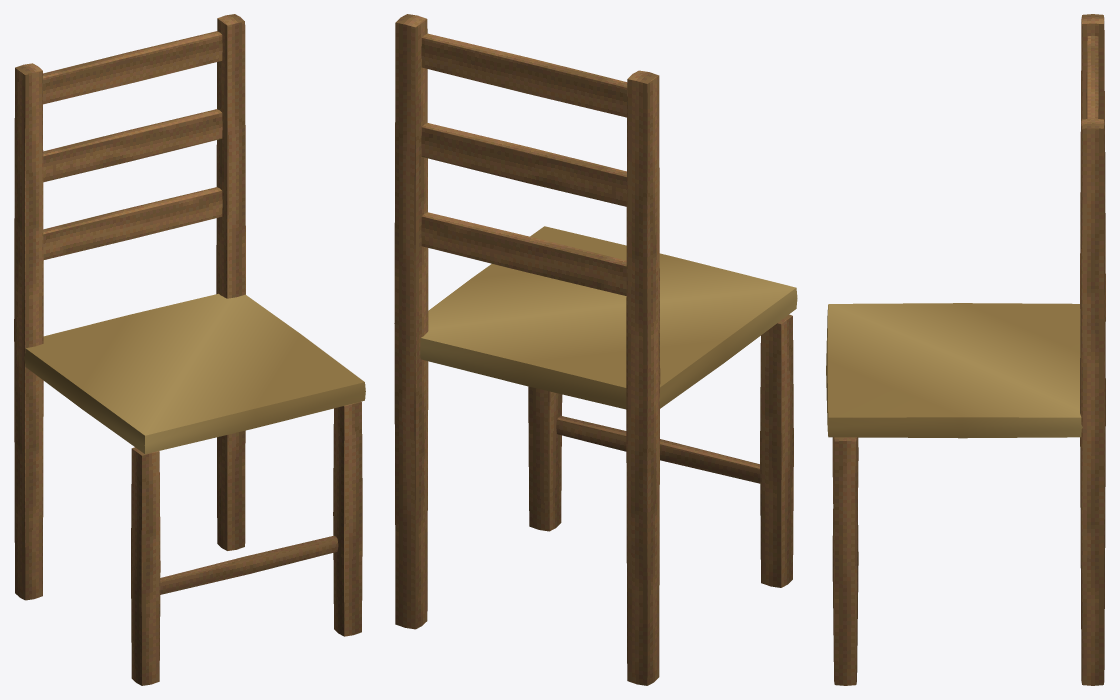
The model's file is dining_chair.glb.
The picture shows the model from 3 angles, left to right: view 1: azimuth 30°, elevation 25°; view 2: azimuth 150°, elevation 25°; view 3: azimuth 270°, elevation 25°; orthographic projection. The views are drawn at different scales.
Visible parts, largest first — view 1: seat, post_back (×2), slat (×3), leg_front (×2), stretcher; view 2: post_back (×2), seat, slat (×3), leg_front (×2), stretcher; view 3: seat, post_back (×2), leg_front, slat.
Part boxes in pixels (x1,y1,x2,y2): seat: (24,293,365,454); post_back (×2): (14,14,245,600); slat (×3): (43,31,222,259); leg_front (×2): (131,401,362,685); stretcher: (160,536,338,594); post_back (×2): (394,14,660,685); seat: (420,226,797,409); slat (×3): (421,33,627,295); leg_front (×2): (528,314,793,587); stretcher: (556,416,760,483); seat: (826,303,1082,438); post_back (×2): (1080,14,1105,685); leg_front: (832,437,858,685); slat: (1086,35,1099,118).
Bounding box in the file's own units: 0.42 × 0.95 × 0.43.
Materials: 2 (1 with a texture image).
